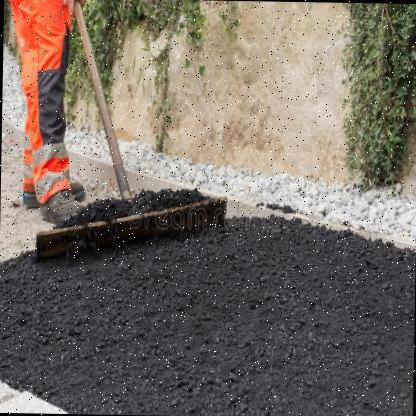bota: (40, 183, 90, 227)
